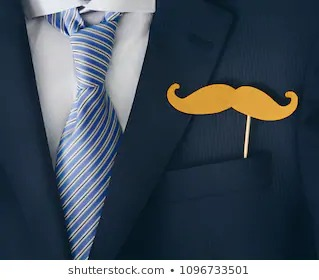F_tie: (37, 2, 134, 260)
